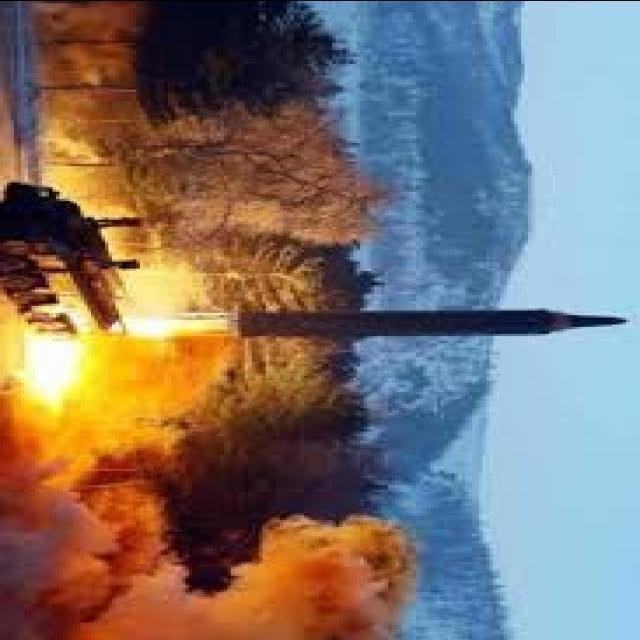missile: (224, 298, 630, 344)
